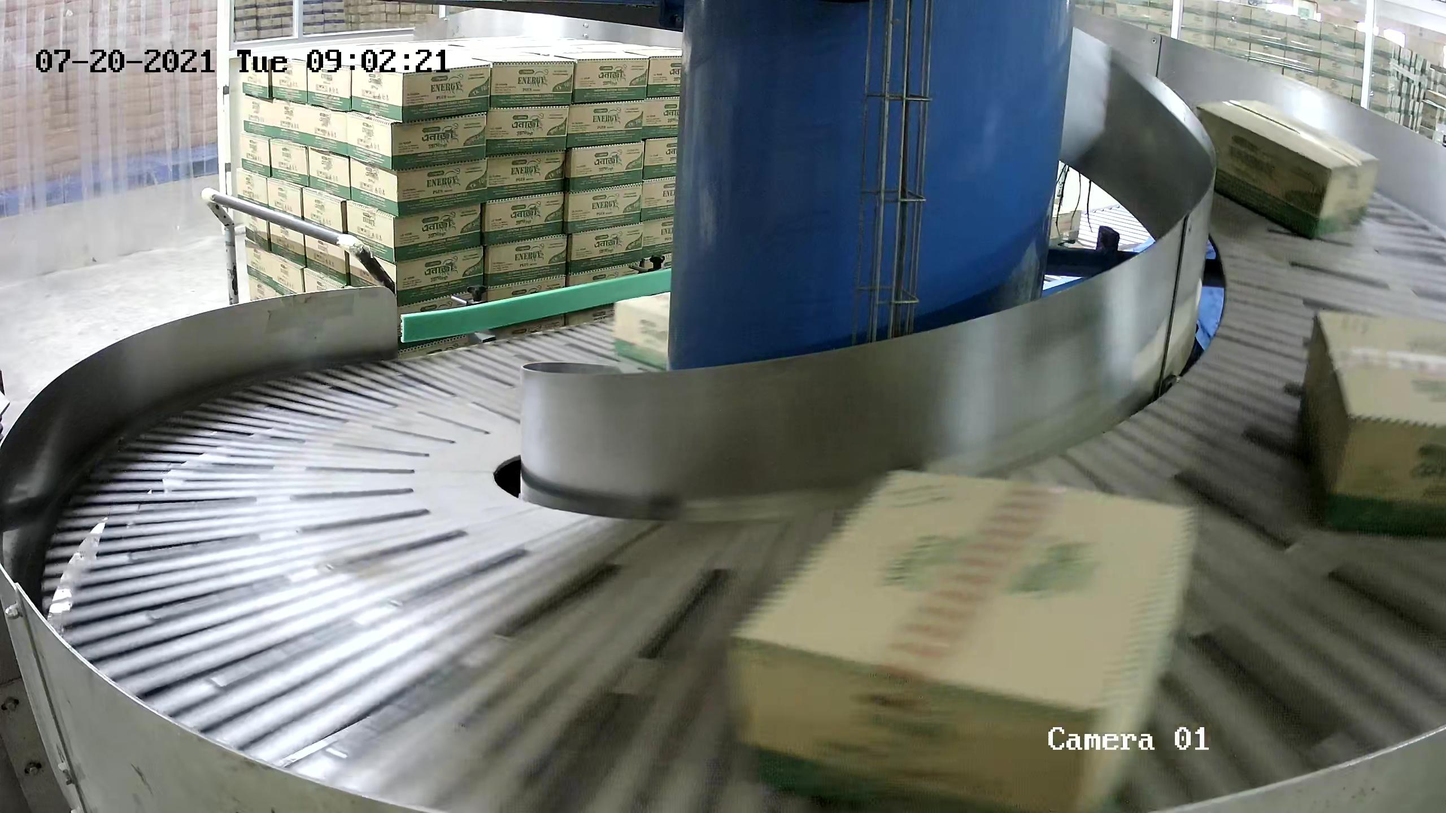Box: (719, 460, 1201, 811), (1297, 304, 1446, 540), (1194, 96, 1382, 241), (612, 289, 673, 372)
